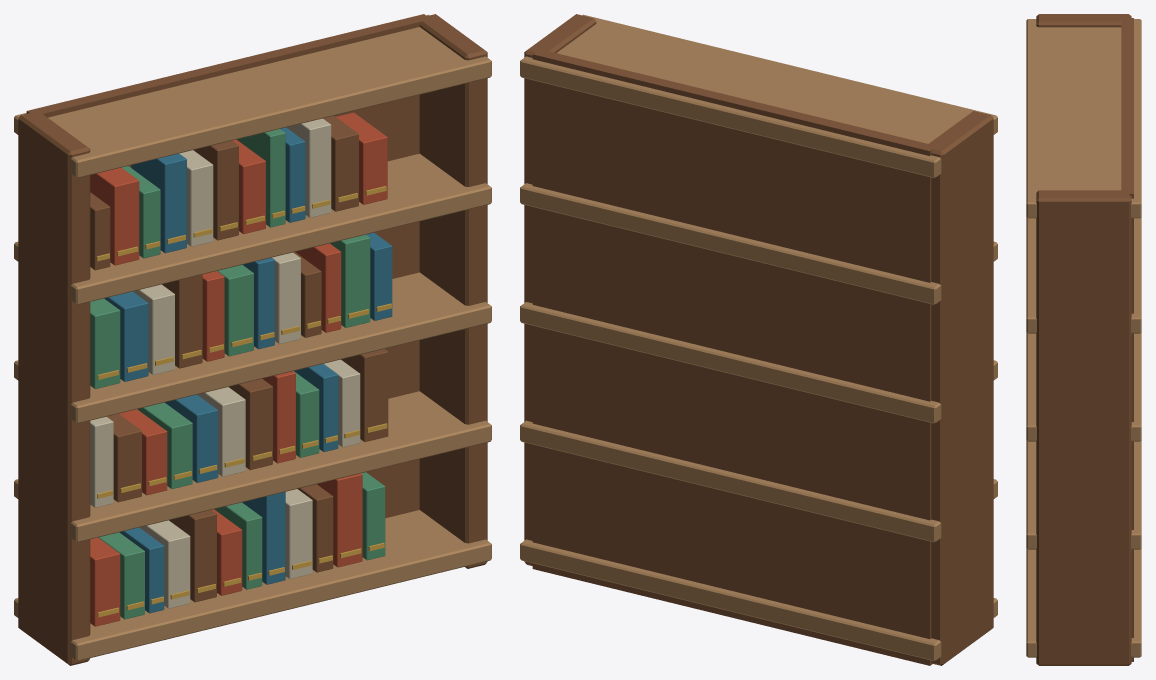
The model's file is library_bookcase.glb.
3 views of the same model, side by side, from view 1: azimuth 30°, elevation 25°; view 2: azimuth 150°, elevation 25°; view 3: azimuth 270°, elevation 25° (orthographic). The views are drawn at different scales.
Visible parts, largest first — view 1: library_bookcase; view 2: library_bookcase; view 3: library_bookcase.
Boxes of the visible parts, bbox=[...] form: library_bookcase: bbox=[14, 14, 491, 665]; library_bookcase: bbox=[520, 14, 997, 665]; library_bookcase: bbox=[1026, 14, 1141, 665].
Size of the model in its own units: 2.22 by 2.6 by 0.58.
